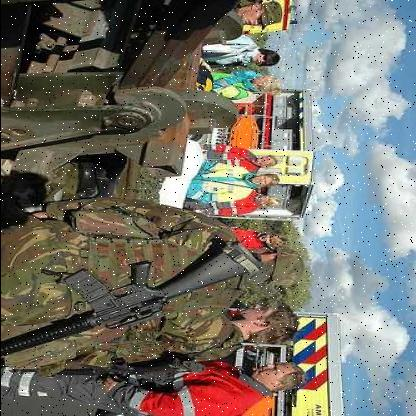rifle: (1, 239, 257, 369)
